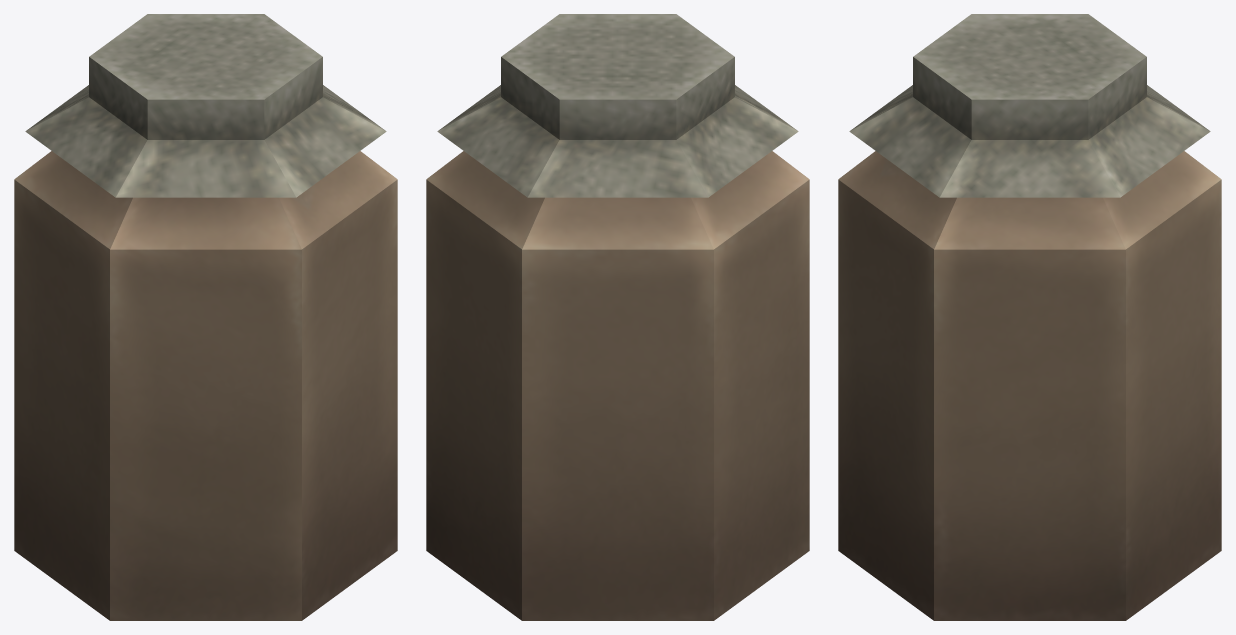
Rendered from Jar.fbx.
3 views of the same model, side by side, from view 1: azimuth 30°, elevation 25°; view 2: azimuth 150°, elevation 25°; view 3: azimuth 270°, elevation 25° (orthographic).
Parts seen in each view (by area): view 1: Jar; view 2: Jar; view 3: Jar.
Part boxes in pixels (x1,y1,x2,y2): Jar: (14,14,397,620); Jar: (426,14,809,620); Jar: (838,14,1221,620).
Size of the model in its own units: 16.14 by 26.49 by 18.64.
